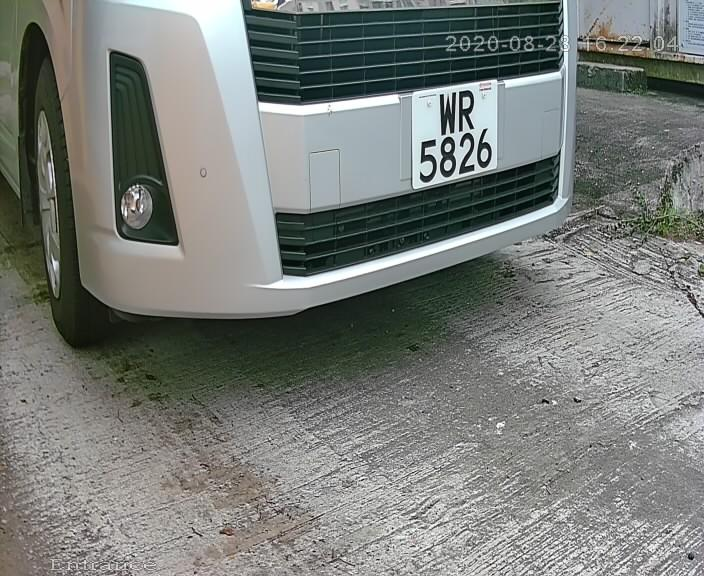License Plate: (403, 72, 510, 201)
